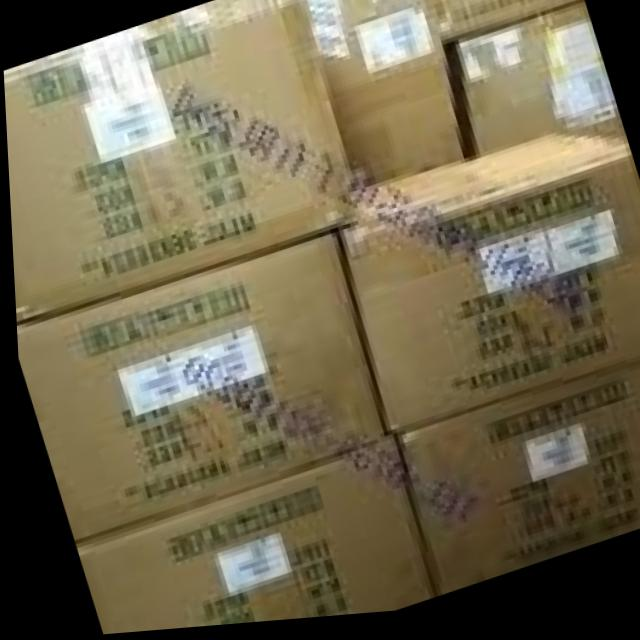box: (13, 231, 383, 551), (3, 0, 360, 321), (339, 141, 640, 441), (72, 441, 431, 636), (378, 374, 640, 603), (301, 0, 461, 189), (445, 7, 625, 162), (436, 0, 583, 51)
